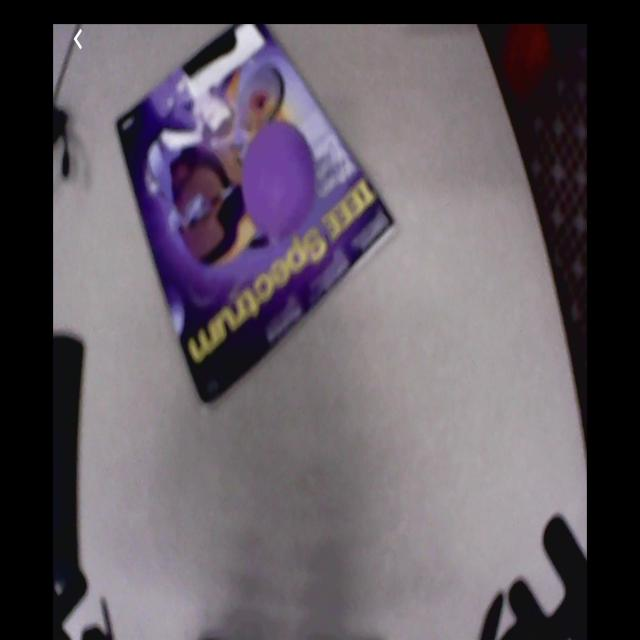ball: (245, 126, 317, 233)
